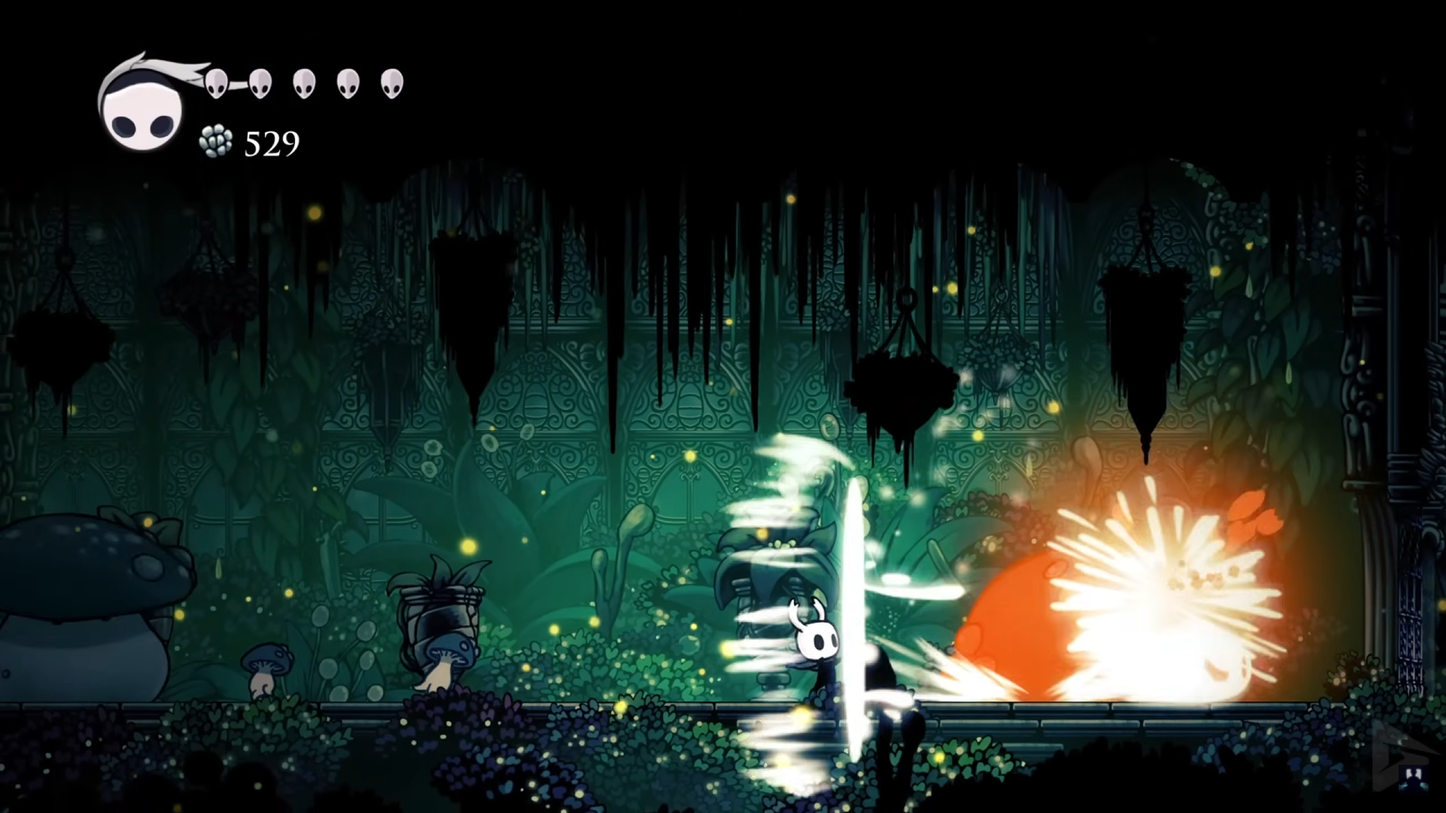HK: (785, 588, 847, 699)
